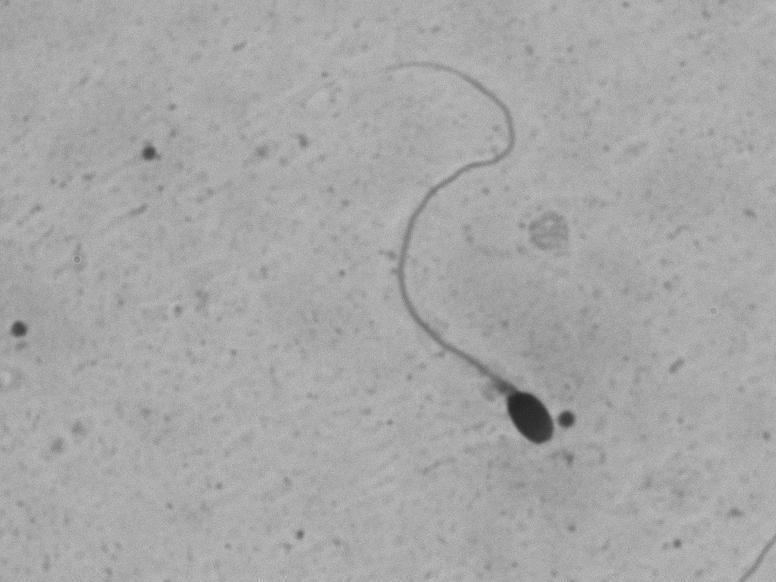Normal: (378, 43, 560, 461)
